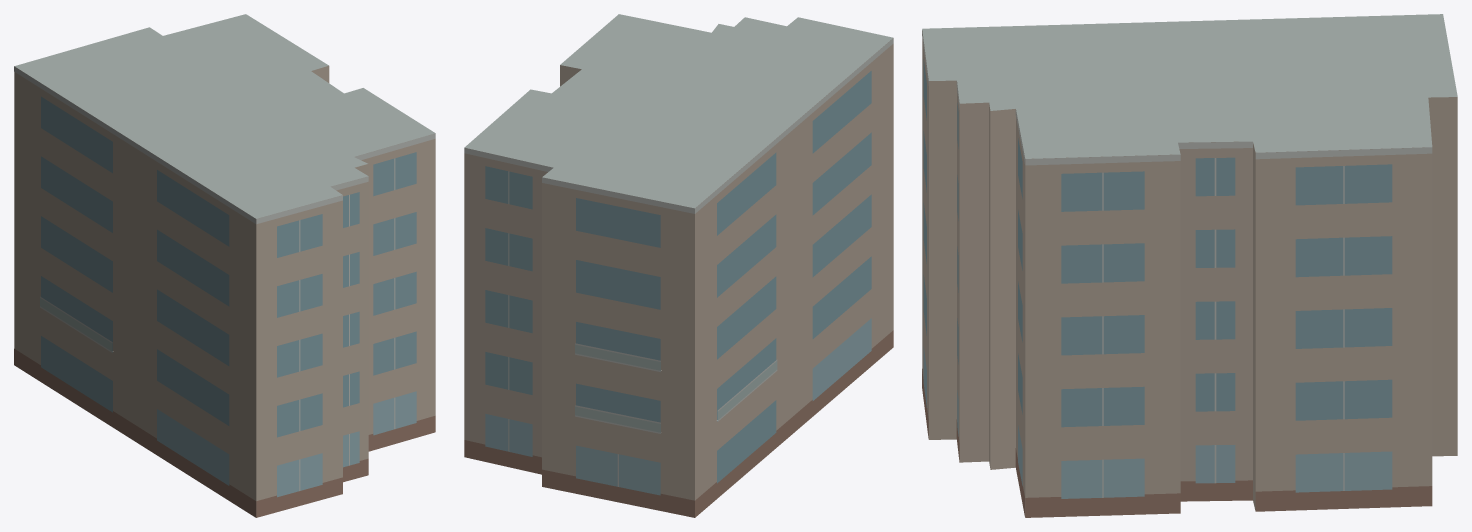
The model's file is survey-upis-32620007.glb.
The picture shows the model from 3 angles, left to right: view 1: azimuth 30°, elevation 25°; view 2: azimuth 150°, elevation 25°; view 3: azimuth 270°, elevation 25°; orthographic projection. The views are drawn at different scales.
Parts seen in each view (by area): view 1: survey-upis-32620007.tmp; view 2: survey-upis-32620007.tmp; view 3: survey-upis-32620007.tmp.
Boxes of the visible parts, x1,y1,x2,y2 form: survey-upis-32620007.tmp: [14, 14, 435, 517]; survey-upis-32620007.tmp: [464, 14, 893, 517]; survey-upis-32620007.tmp: [922, 14, 1457, 517].
Size of the model in its own units: 11.66 by 13.45 by 18.2.
